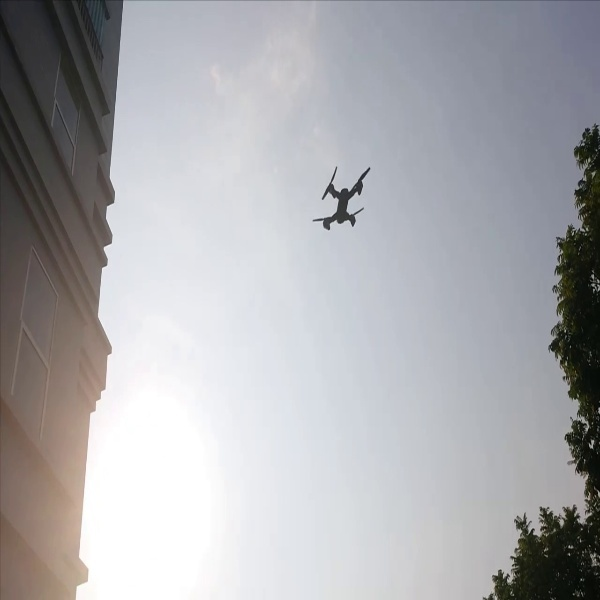drone: (309, 161, 370, 235)
